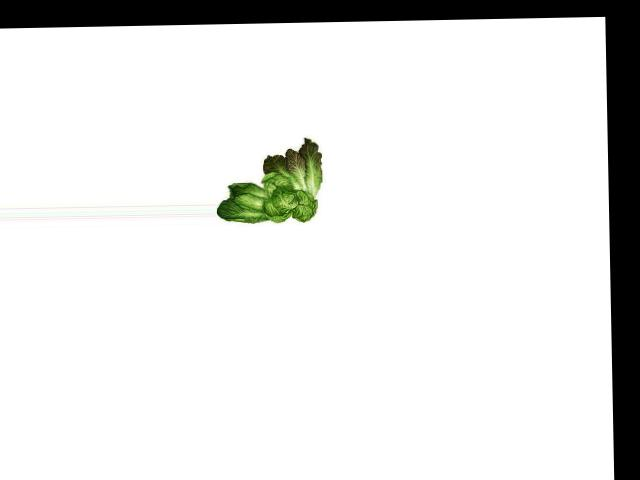lettuce: (214, 132, 325, 229)
